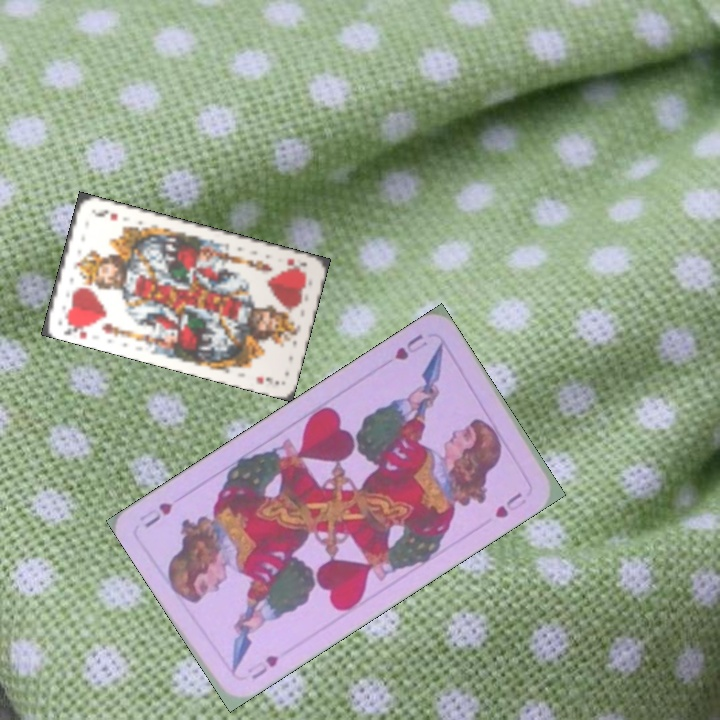HK: (59, 317, 95, 341), (283, 254, 310, 276)
HU: (391, 329, 430, 363), (243, 651, 282, 682)
